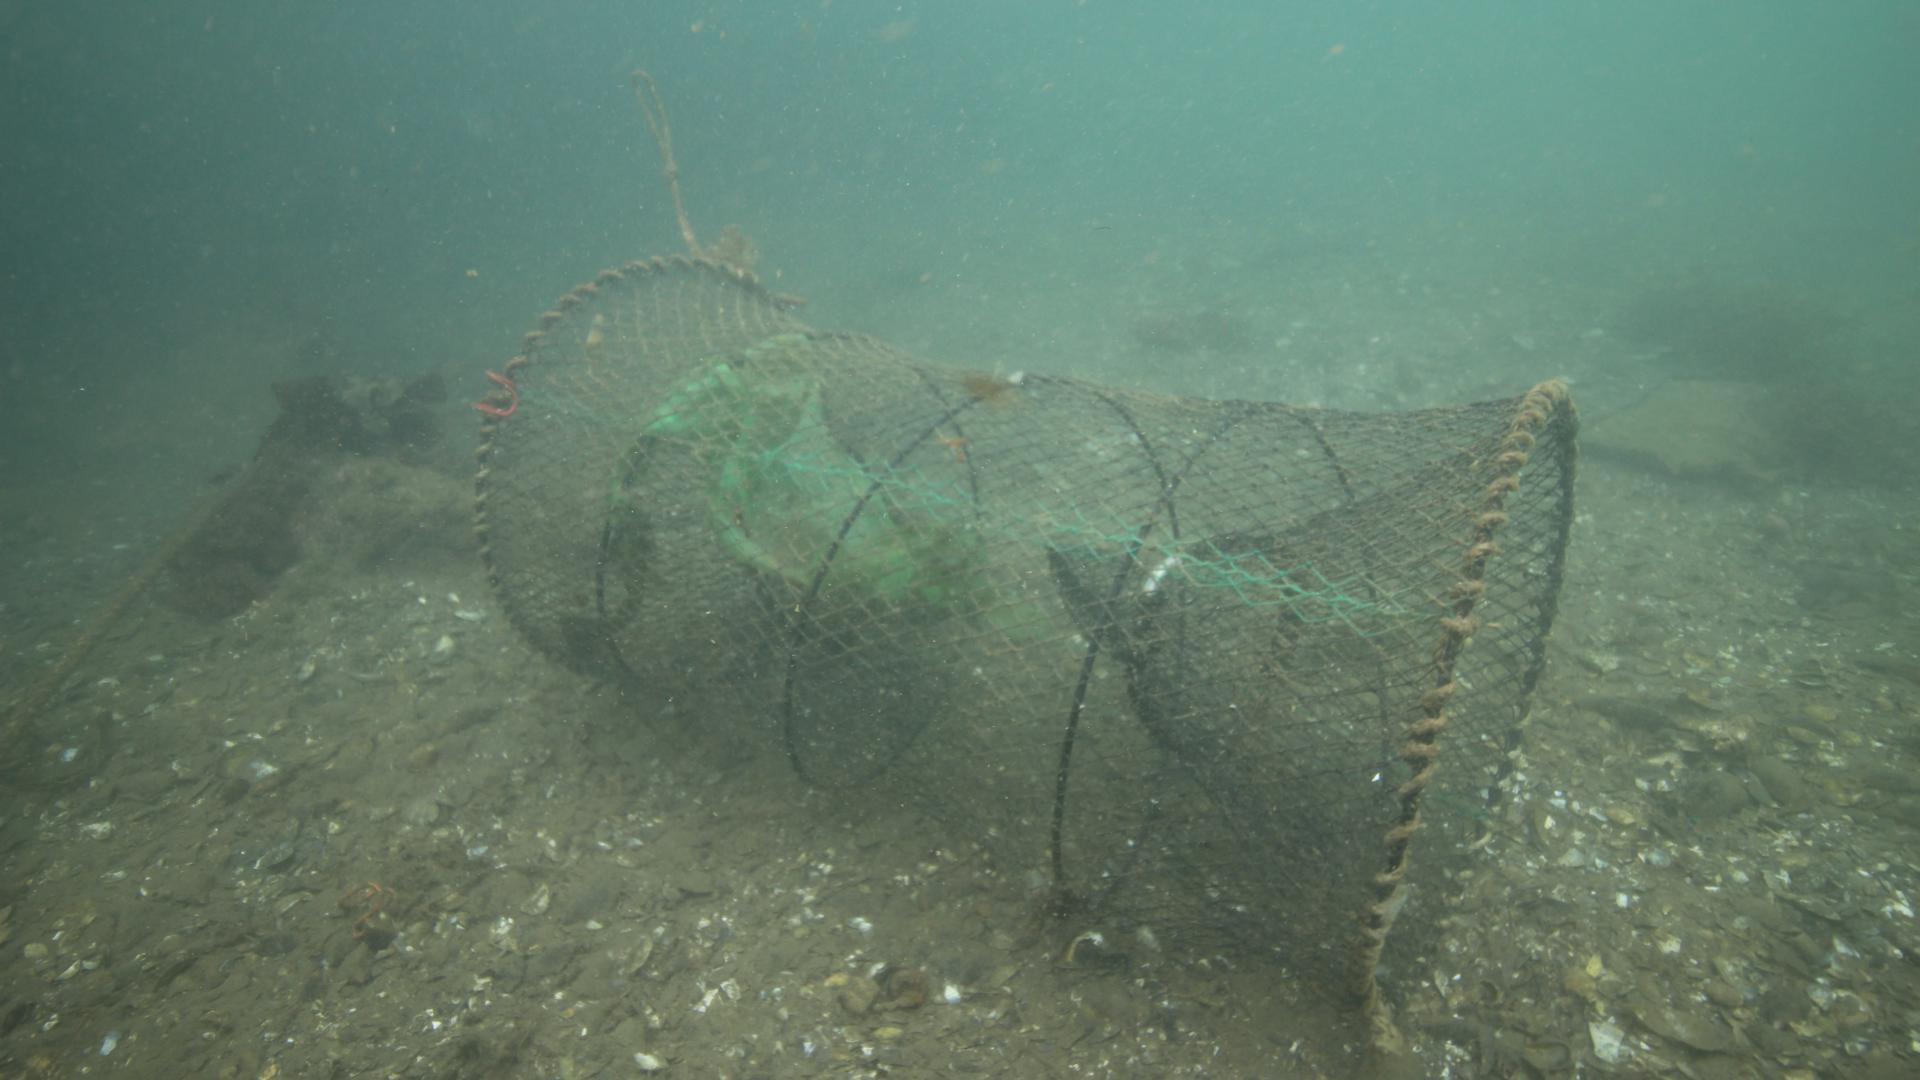rope: (624, 65, 707, 258)
spring fish trap: (465, 255, 1581, 1047)
